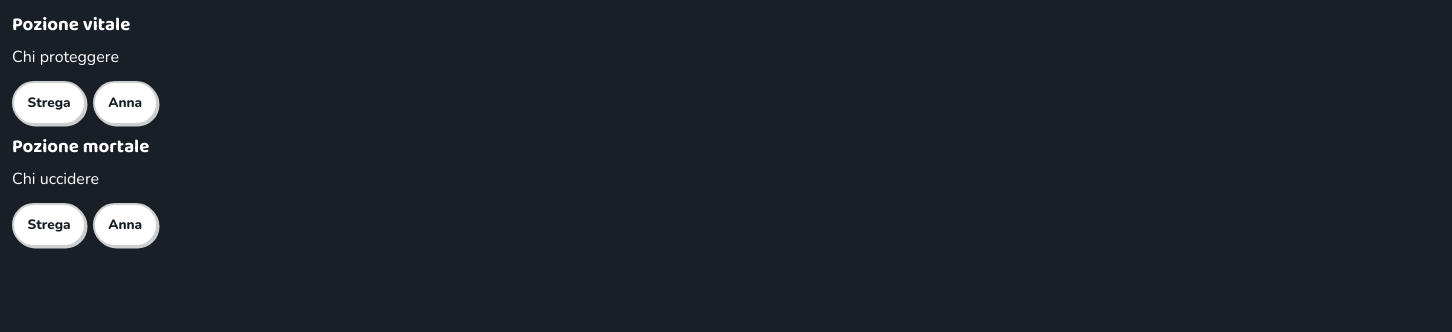
Test: avvisa se la pozione vitale non ha effetto perché il bersaglio è già protetto
Click the button "Anna" below "Chi proteggere".
click(125, 103)  # box [93,81,158,125]
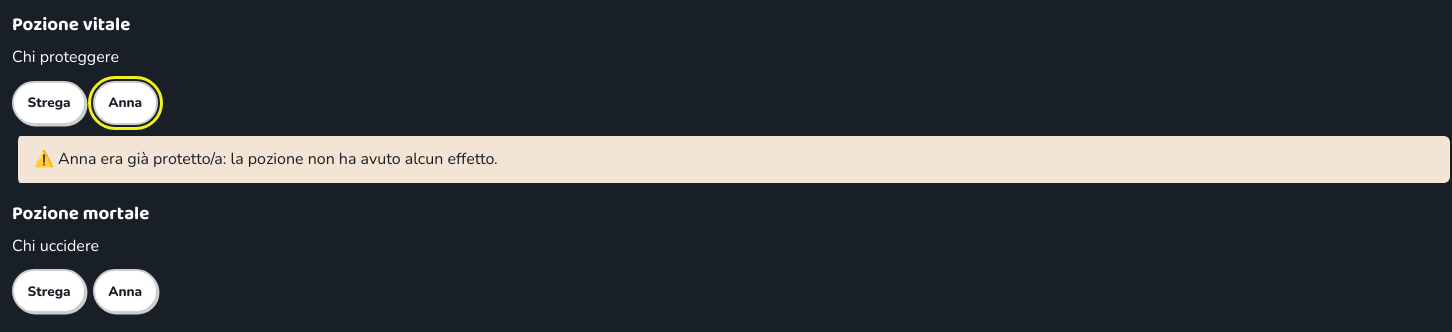
Check: the text "non ha avuto alcun effetto" is shown, box [58,148,498,170]
